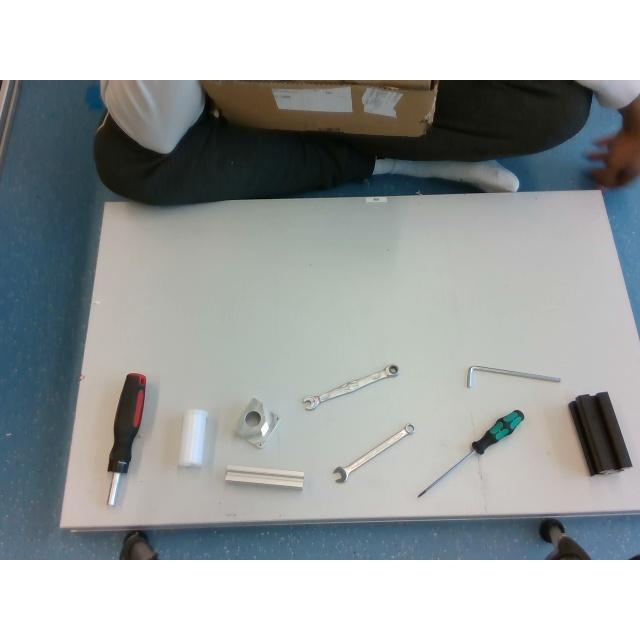F20_20_G: (225, 465, 303, 489)
S40_40_B: (569, 392, 631, 474)
Screwdriver: (416, 410, 524, 498)
Spacer: (179, 409, 207, 467)
Wrench: (302, 365, 398, 409)
